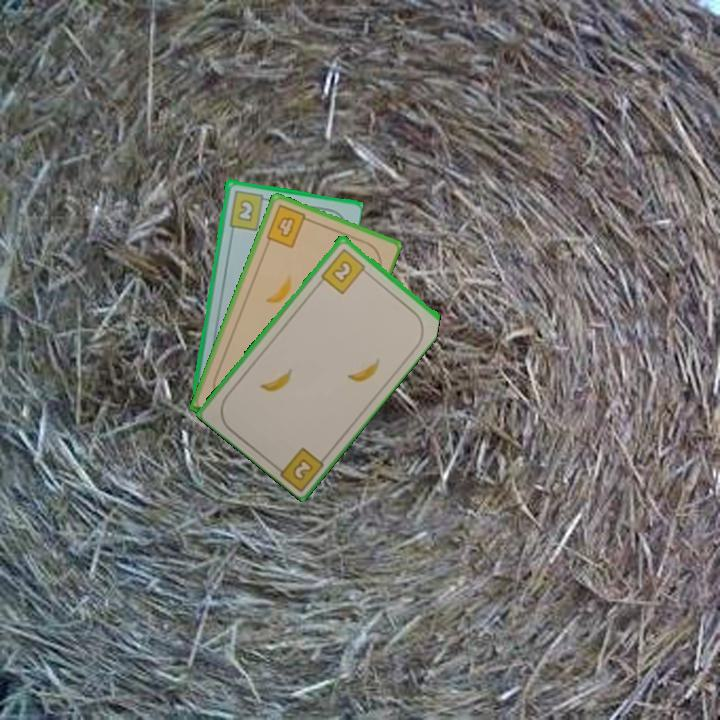2b: (317, 245, 371, 296), (225, 187, 272, 233), (289, 454, 316, 483)
4b: (262, 201, 314, 251)
